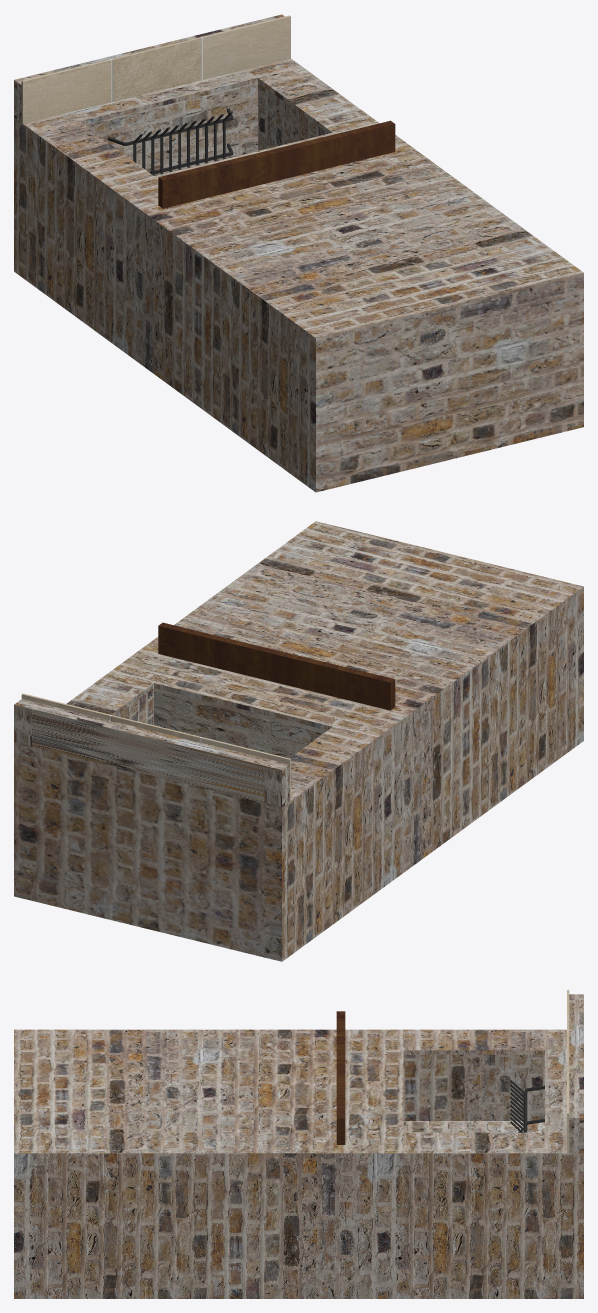
Rendered from fireplace 7.29.18.fbx.
The picture shows the model from 3 angles, top to bottom: view 1: azimuth 30°, elevation 25°; view 2: azimuth 150°, elevation 25°; view 3: azimuth 270°, elevation 25°; orthographic projection. The views are drawn at different scales.
Visible parts, largest first — view 1: fireplace, fireplace grate; view 2: fireplace; view 3: fireplace, fireplace grate.
Part boxes in pixels (x1,y1,x2,y2): fireplace: (14, 14, 583, 492); fireplace grate: (108, 108, 233, 175); fireplace: (14, 521, 583, 961); fireplace: (14, 990, 583, 1298); fireplace grate: (510, 1080, 544, 1132).
Bounding box in the file's own units: 60 × 42 × 117.
